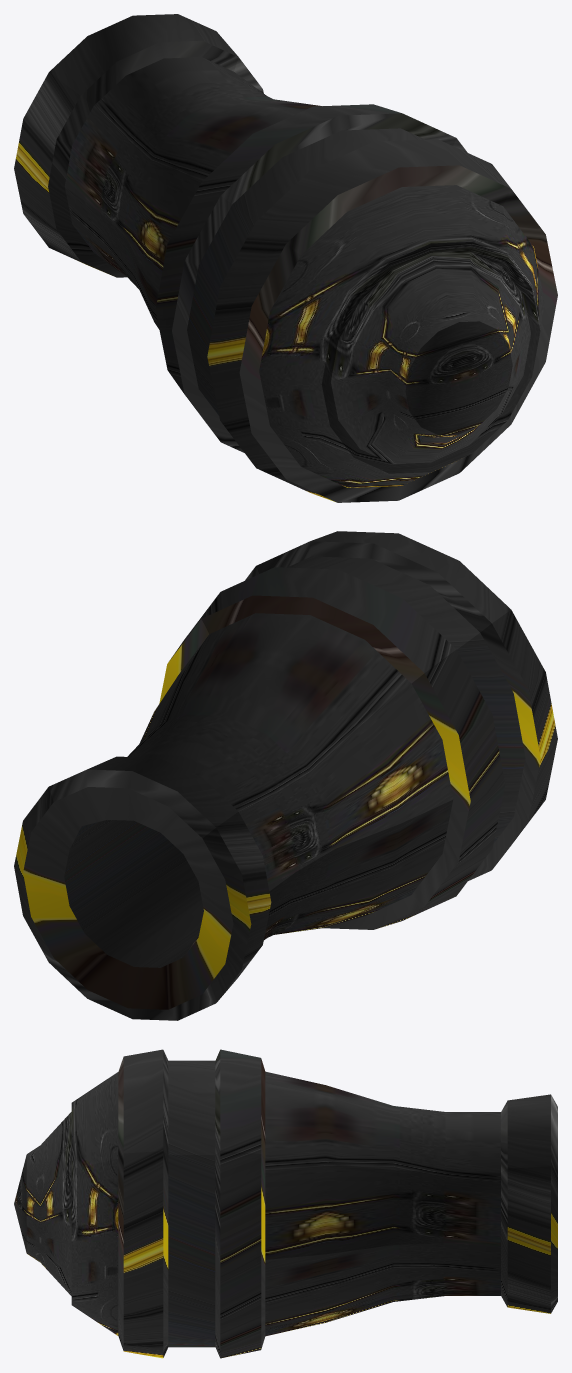
The model's file is barrel.obj.
3 renders of one model, top to bottom at view 1: azimuth 30°, elevation 25°; view 2: azimuth 150°, elevation 25°; view 3: azimuth 270°, elevation 25°, orthographic. The views are drawn at different scales.
Parts seen in each view (by area): view 1: barrel; view 2: barrel; view 3: barrel.
Part boxes in pixels (x1,y1,x2,y2): barrel: [14, 14, 557, 502]; barrel: [14, 531, 557, 1020]; barrel: [14, 1049, 557, 1358].
Bounding box in the file's own units: 4.09 × 4.09 × 7.2.
Materials: 1 (1 with a texture image).
